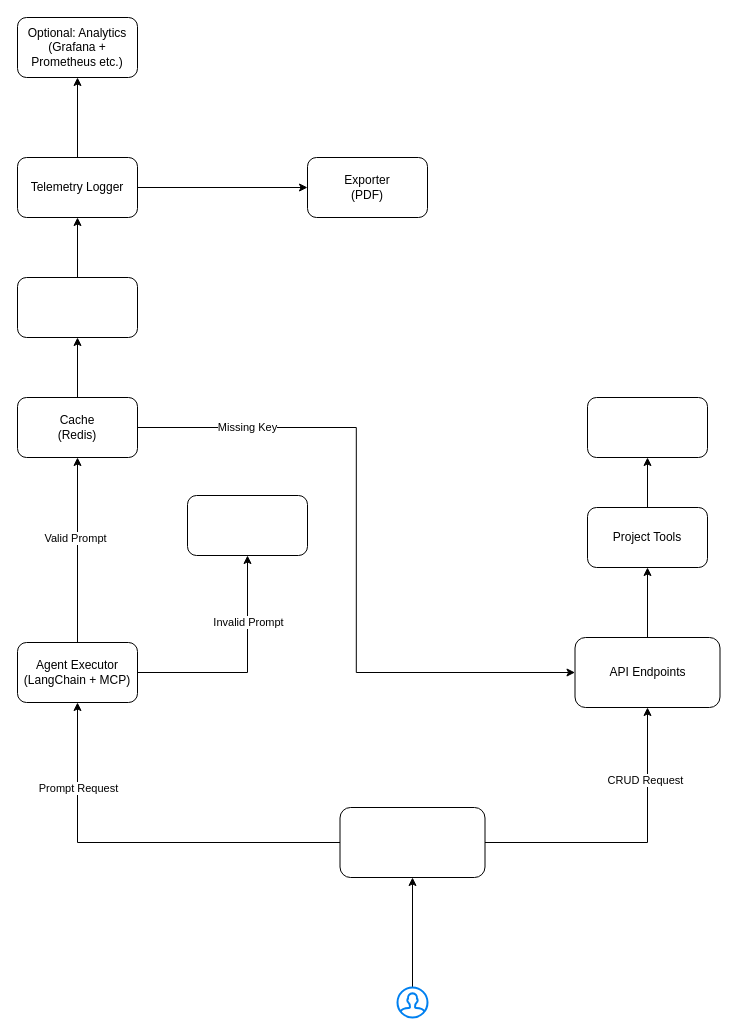
This 738x1036 diagram has some shape labels left out. Here are the shapes that lost their labels. From the top down, the box of each, then its label:
(16, 276, 138, 338): Redaction
(586, 396, 708, 458): Database (PostgreSQL)
(186, 494, 308, 556): Fallback Response
(339, 806, 485, 878): Project Tracker API (FastAPI)
